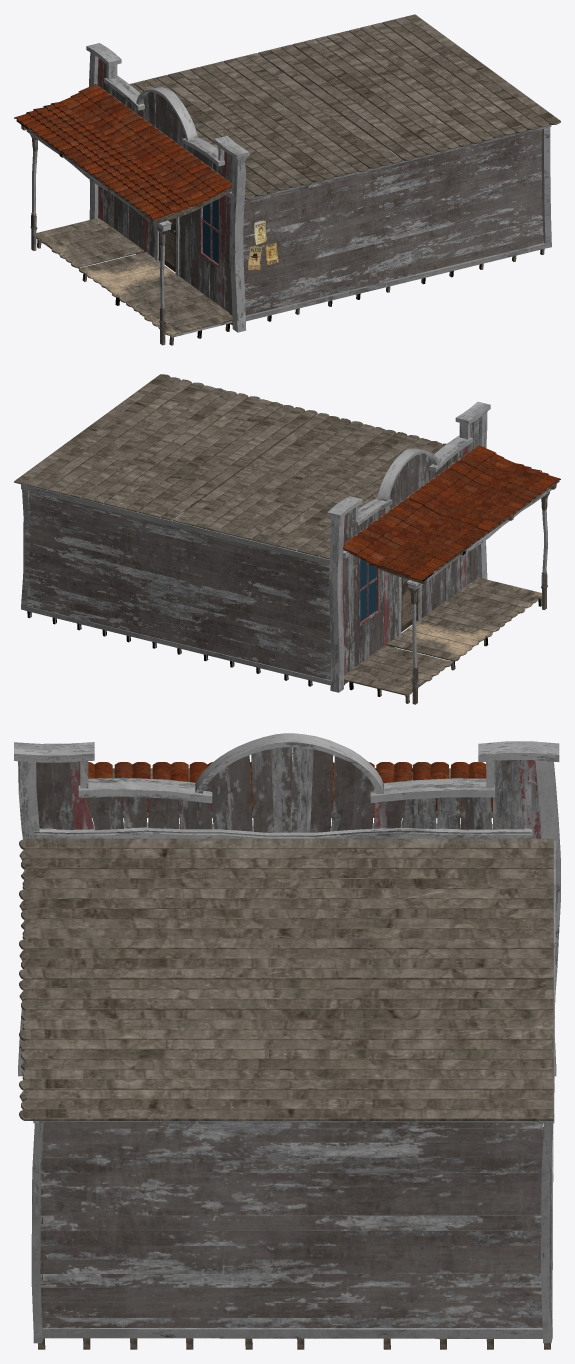
File: Sheriff.fbx
The picture shows the model from 3 angles, top to bottom: view 1: azimuth 30°, elevation 25°; view 2: azimuth 150°, elevation 25°; view 3: azimuth 270°, elevation 25°; orthographic projection. The views are drawn at different scales.
Parts seen in each view (by area): view 1: polySurface18; view 2: polySurface18; view 3: polySurface18.
Boxes of the visible parts, bbox=[...] form: polySurface18: bbox=[14, 14, 560, 345]; polySurface18: bbox=[14, 374, 560, 704]; polySurface18: bbox=[14, 733, 560, 1349].
Size of the model in its own units: 1288 by 568 by 830.
